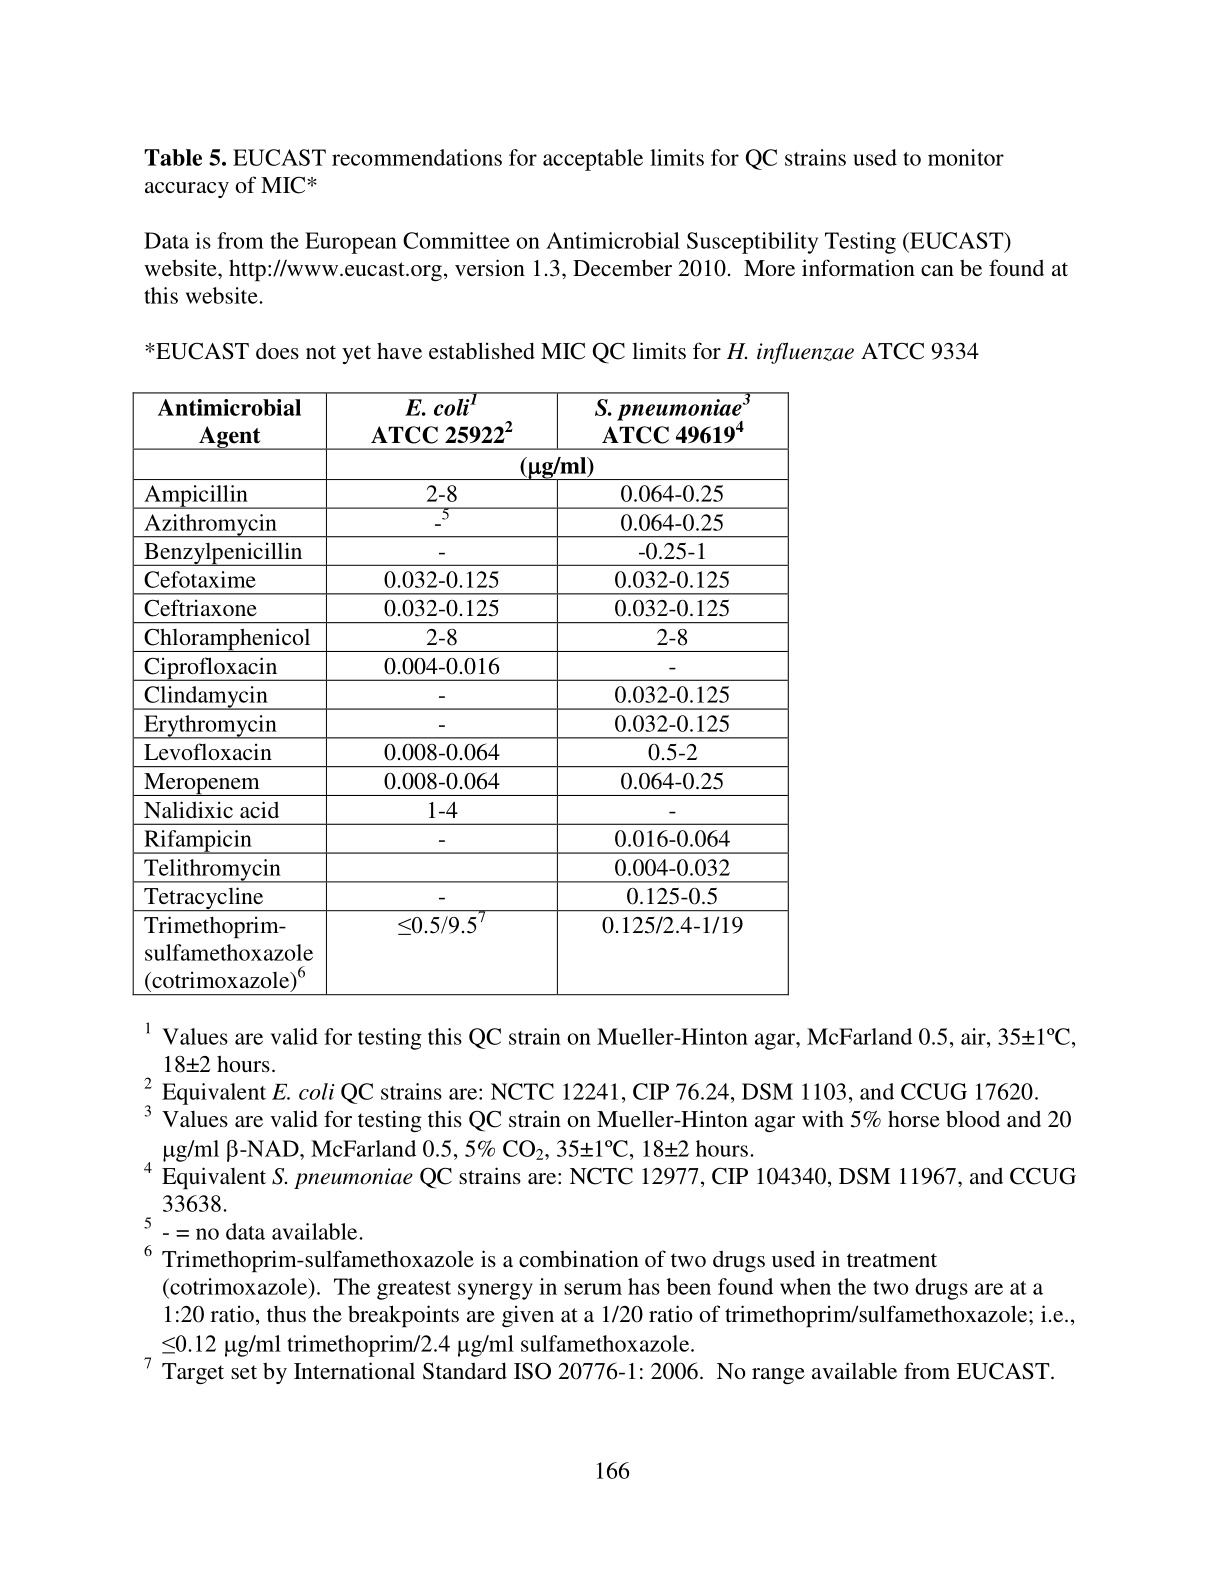merged_cells: (131, 391, 789, 996)
